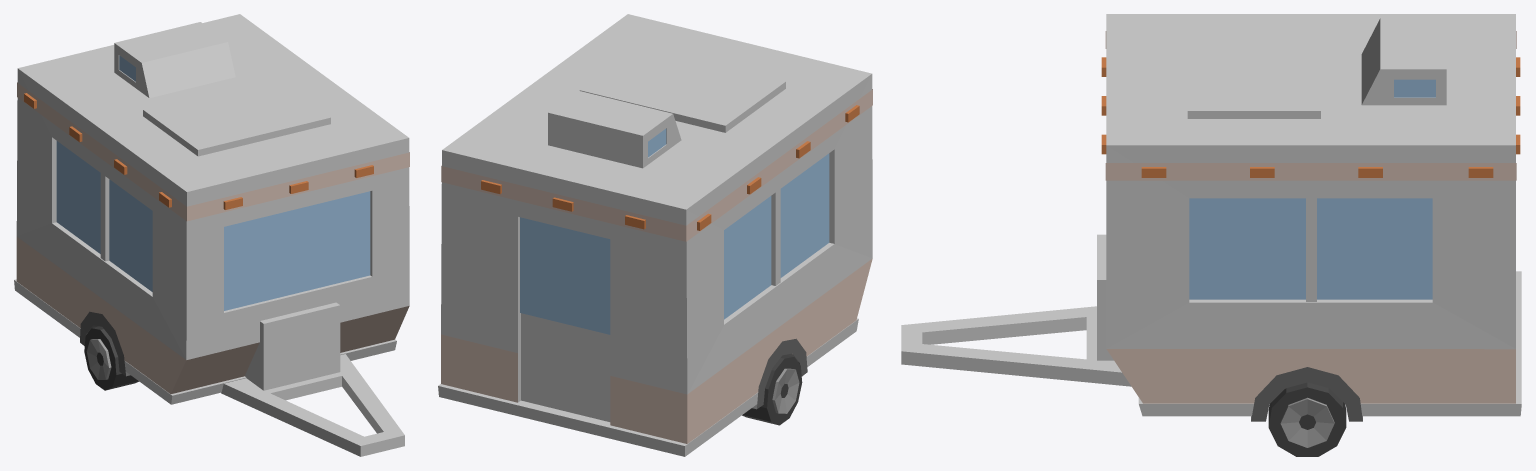
The model's file is transport_old_011.fbx.
3 renders of one model, left to right at view 1: azimuth 30°, elevation 25°; view 2: azimuth 150°, elevation 25°; view 3: azimuth 270°, elevation 25°, orthographic. The views are drawn at different scales.
Visible parts, largest first — view 1: transport_old_011; view 2: transport_old_011; view 3: transport_old_011.
Part boxes in pixels (x1,y1,x2,y2): transport_old_011: (14,14,409,456); transport_old_011: (438,14,872,456); transport_old_011: (901,14,1521,456).
Size of the model in its own units: 157 by 183 by 297.
